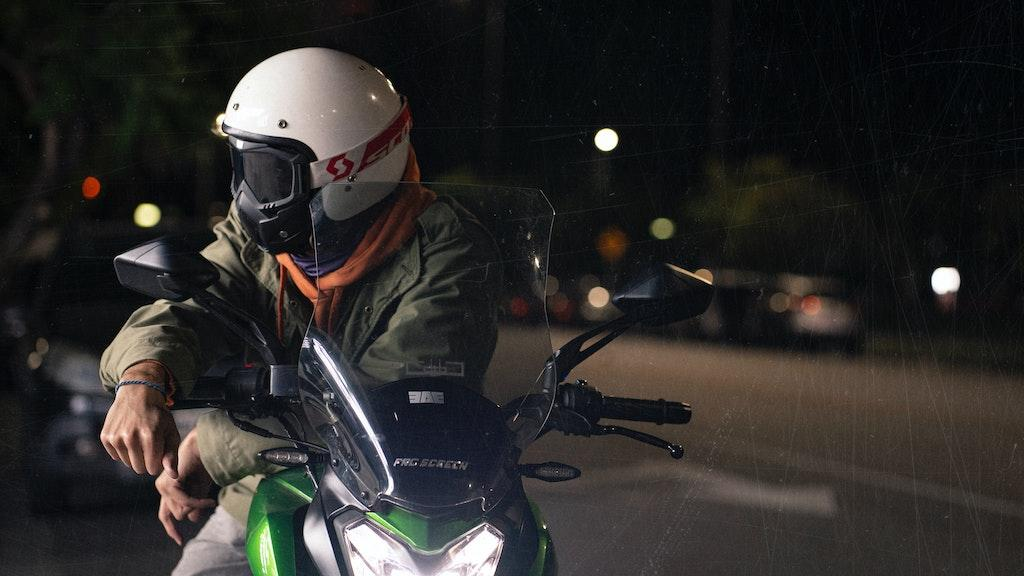helmet: (220, 45, 414, 256)
